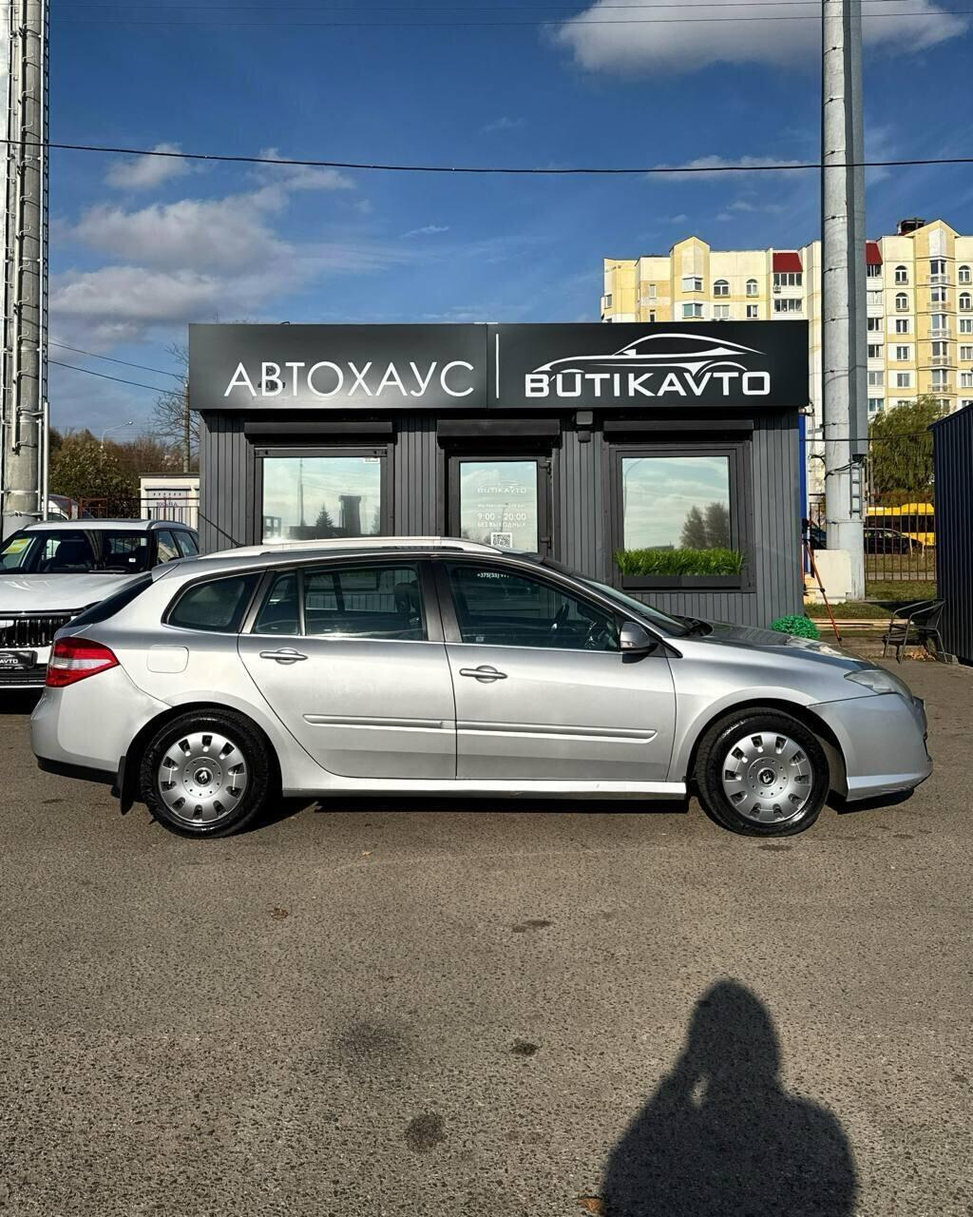Laguna_2007-2011: (31, 536, 931, 840)
